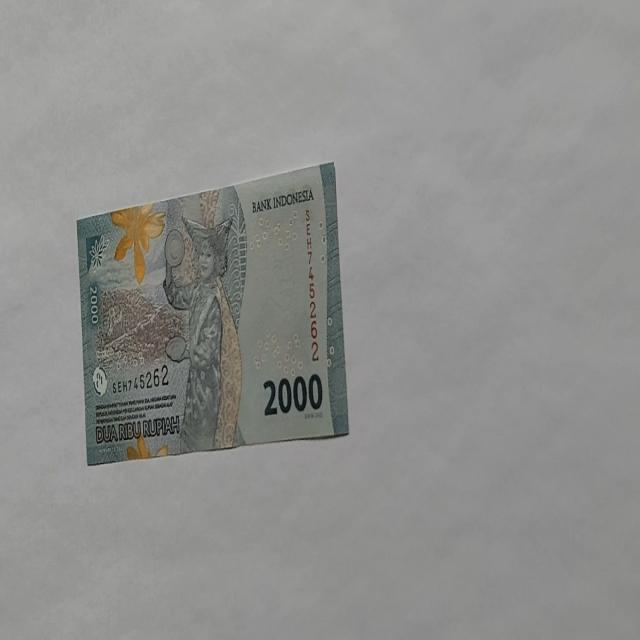dua ribu rupiah: (76, 159, 349, 465), (160, 212, 244, 454)
